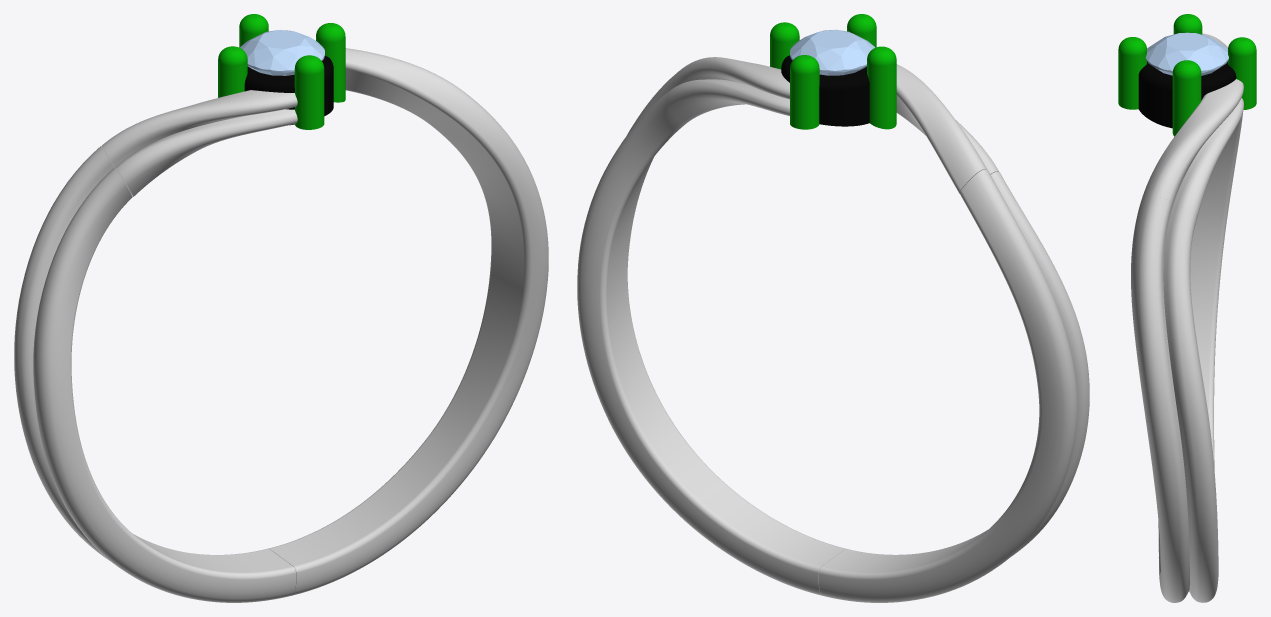
3 renders of one model, left to right at view 1: azimuth 30°, elevation 25°; view 2: azimuth 150°, elevation 25°; view 3: azimuth 270°, elevation 25°, orthographic. The views are drawn at different scales.
Parts seen in each view (by area): view 1: anel organico tranpassado solitario.3dm, RoundDiamondGG; view 2: anel organico tranpassado solitario.3dm, RoundDiamondGG; view 3: anel organico tranpassado solitario.3dm, RoundDiamondGG.
Boxes of the visible parts, left/top/right/bottom form: anel organico tranpassado solitario.3dm: left=14, top=14, right=548, bottom=602; RoundDiamondGG: left=240, top=30, right=324, bottom=75; anel organico tranpassado solitario.3dm: left=577, top=14, right=1089, bottom=602; RoundDiamondGG: left=790, top=29, right=875, bottom=75; anel organico tranpassado solitario.3dm: left=1118, top=14, right=1256, bottom=602; RoundDiamondGG: left=1145, top=32, right=1228, bottom=75.
Size of the model in its own units: 2.73 by 2.85 by 0.6636.
